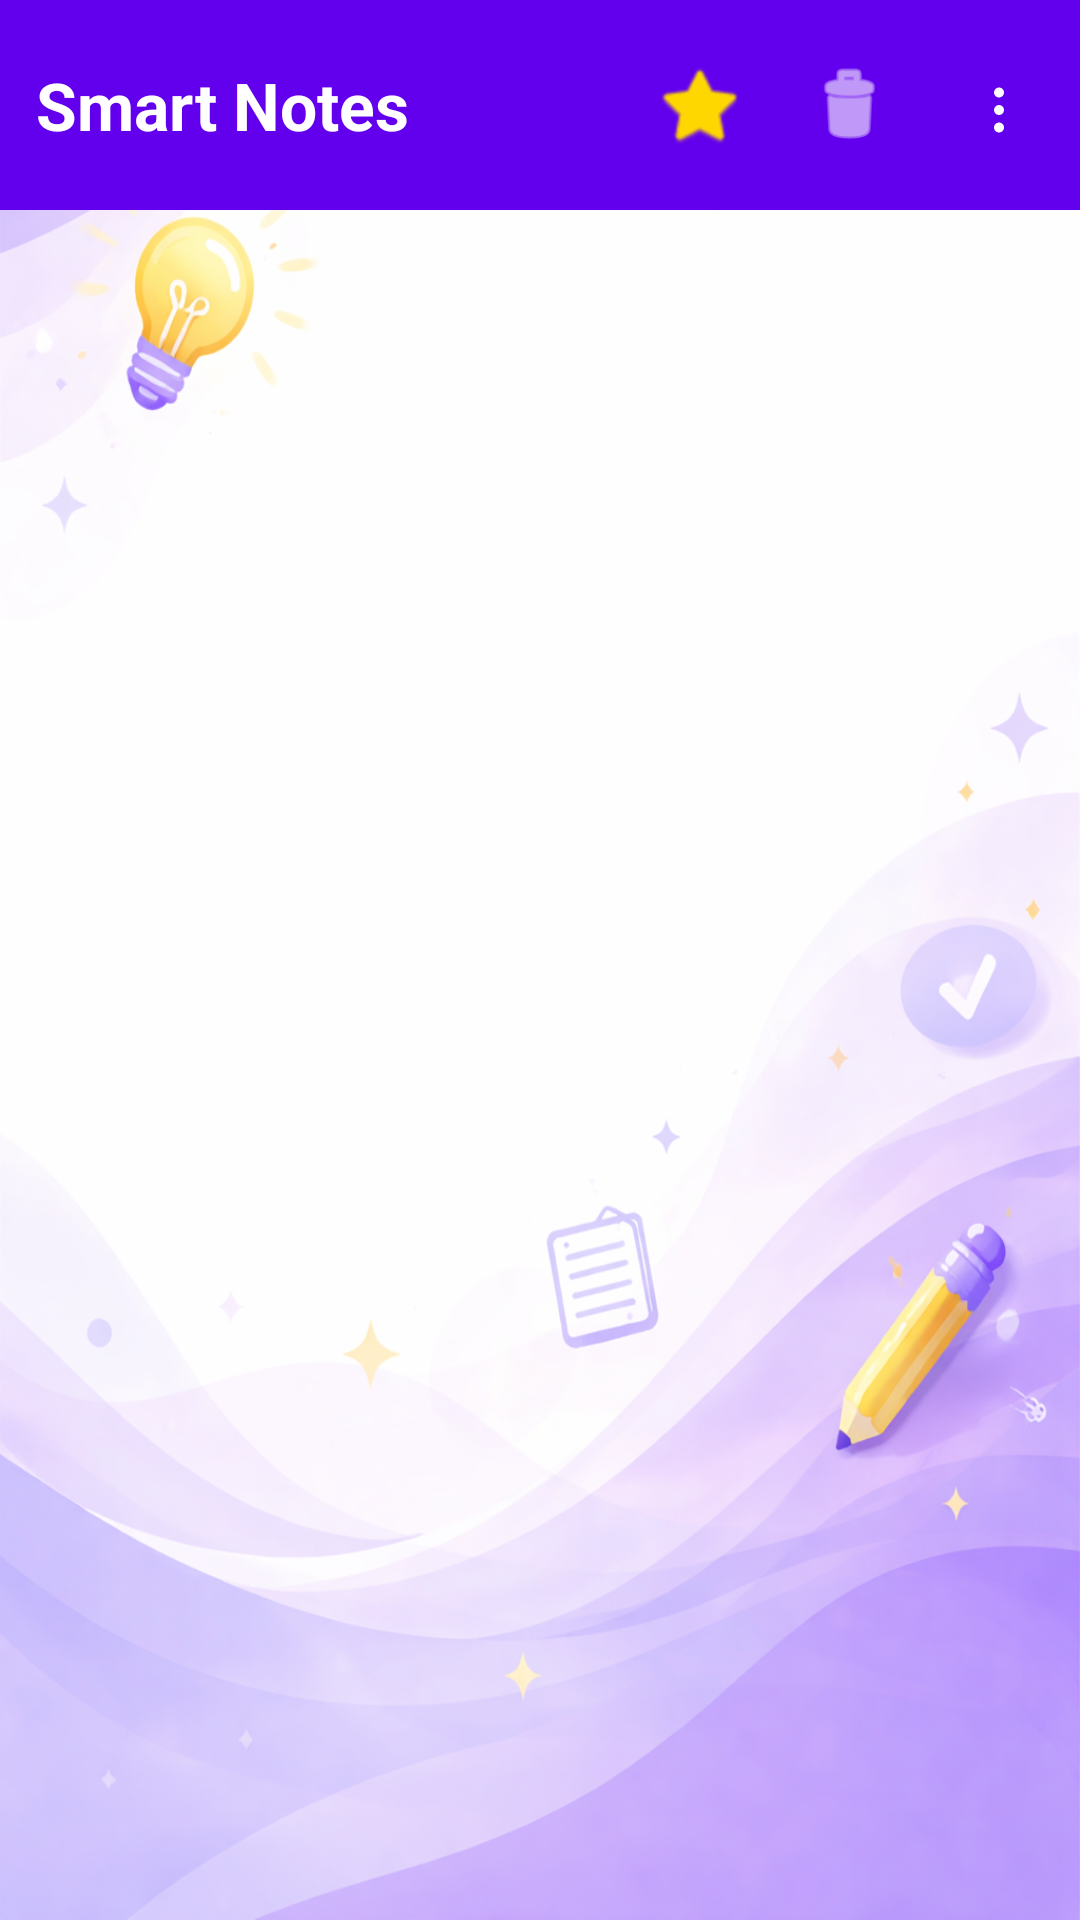

Screen size 1080x1920. Icon name, then its center in pixels as (x,y):
delete: (849,103)
more vert: (999,110)
star on: (699,105)
